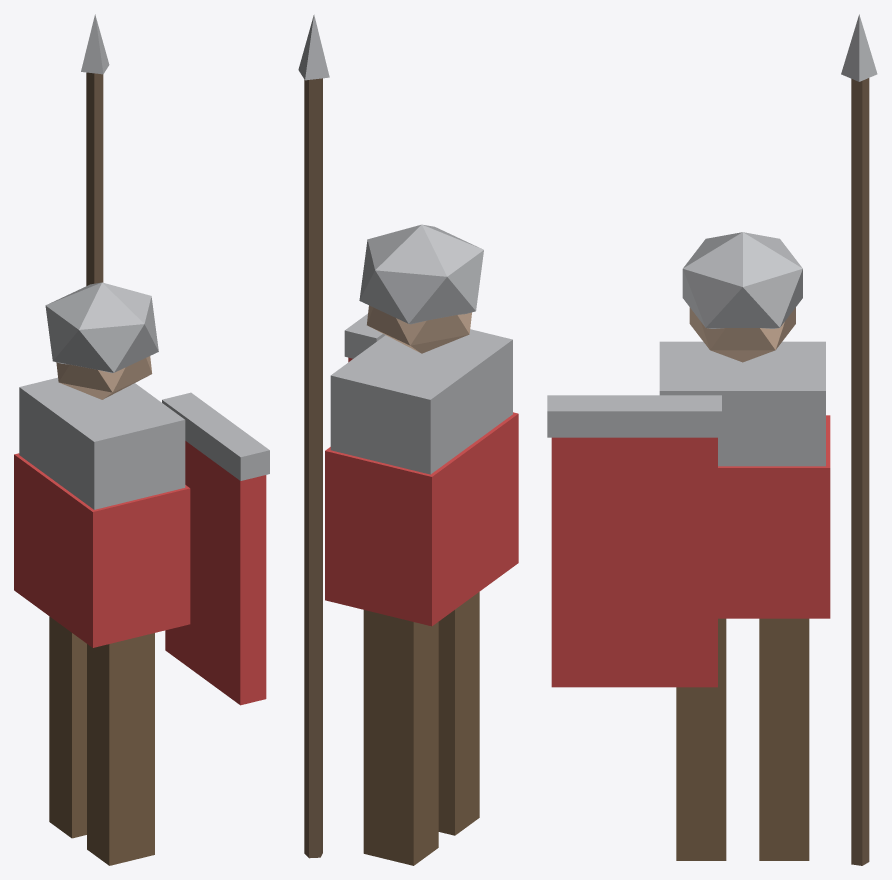
The model's file is army_foot.glb.
3 views of the same model, side by side, from view 1: azimuth 30°, elevation 25°; view 2: azimuth 150°, elevation 25°; view 3: azimuth 270°, elevation 25° (orthographic). The views are drawn at different scales.
Parts seen in each view (by area): view 1: army_foot; view 2: army_foot; view 3: army_foot.
Part boxes in pixels (left/top/right/bottom): army_foot: left=14, top=14, right=269, bottom=865; army_foot: left=298, top=14, right=518, bottom=865; army_foot: left=547, top=14, right=877, bottom=865.
Bounding box in the file's own units: 0.1985 × 1.14 × 0.397.
